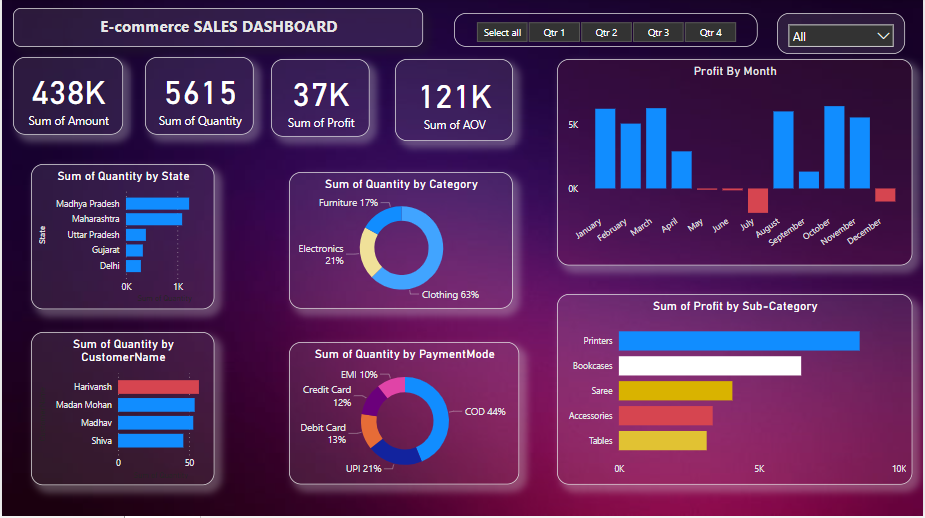

The page's visual inventory and layout, read from the dashboard file:
{"tool":"powerbi","page":{"name":"Page 1","canvas":[1280,720],"ordinal":0},"visuals":[{"type":"textbox","box":[15.3,13.9,570.2,54.1],"z":0},{"type":"columnChart","title":"Profit  By Month","fields":{"Y":["Details.Profit"],"Category":["Orders.Order Date.Variation.Date Hierarchy.Month"]},"box":[771.3,84.6,493.9,287.2],"z":1000},{"type":"barChart","fields":{"Category":["Details.Sub-Category"],"Y":["Details.Profit"]},"box":[771.3,412,493.9,265],"z":2000},{"type":"donutChart","fields":{"Category":["Details.Category"],"Y":["Details.Quantity"]},"box":[399.5,241.4,310.8,190.1],"z":3000},{"type":"donutChart","fields":{"Category":["Details.PaymentMode"],"Y":["Details.Quantity"]},"box":[399.5,478.6,320.5,198.4],"z":4000},{"type":"card","fields":{"Values":["Details.Amount"]},"box":[15.3,81.8,152.6,108.2],"z":5000},{"type":"card","fields":{"Values":["Details.Quantity"]},"box":[198.4,81.8,151.2,108.2],"z":6000},{"type":"card","fields":{"Values":["Details.Profit"]},"box":[374.6,84.6,137.3,108.2],"z":7000},{"type":"card","fields":{"Values":["Details.AOV"]},"box":[546.6,84.6,163.7,113.8],"z":8000},{"type":"clusteredBarChart","fields":{"Category":["Orders.State"],"Y":["Details.Quantity"]},"box":[40.3,230.1,255.3,201.6],"z":9000},{"type":"clusteredBarChart","fields":{"Category":["Orders.CustomerName"],"Y":["Details.Quantity"]},"box":[40.3,463.6,255.3,213.3],"z":10000},{"type":"slicer","fields":{"Values":["Orders.Order Date.Variation.Date Hierarchy.Quarter"]},"box":[628.4,20.8,421.7,47.2],"z":11000},{"type":"slicer","fields":{"Values":["Orders.State"]},"box":[1076.5,20.8,177.6,56.9],"z":12000}]}

Visuals, with their boxes in screenshot pixels (x1, y1, x2, y2), scaled from the page's 1280x720 canvas onto the 925x518 screenshot:
textbox: bbox=(11, 10, 423, 49)
"Profit  By Month" columnChart: bbox=(557, 61, 914, 267)
barChart - Details.Sub-Category x Details.Profit: bbox=(557, 296, 914, 487)
donutChart - Details.Category x Details.Quantity: bbox=(289, 174, 513, 310)
donutChart - Details.PaymentMode x Details.Quantity: bbox=(289, 344, 520, 487)
card - Details.Amount: bbox=(11, 59, 121, 137)
card - Details.Quantity: bbox=(143, 59, 253, 137)
card - Details.Profit: bbox=(271, 61, 370, 139)
card - Details.AOV: bbox=(395, 61, 513, 143)
clusteredBarChart - Orders.State x Details.Quantity: bbox=(29, 166, 214, 311)
clusteredBarChart - Orders.CustomerName x Details.Quantity: bbox=(29, 334, 214, 487)
slicer - Orders.Order Date.Variation.Date Hierarchy.Quarter: bbox=(454, 15, 759, 49)
slicer - Orders.State: bbox=(778, 15, 906, 56)
